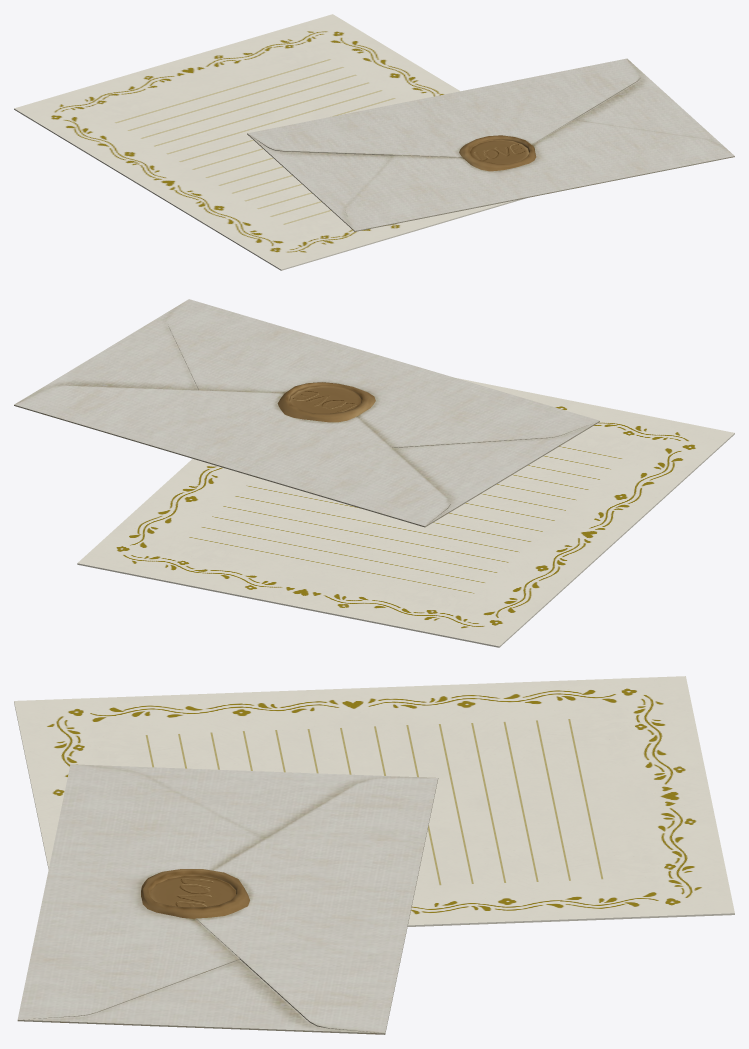
Rendered from Letter.gltf.
3 renders of one model, top to bottom at view 1: azimuth 30°, elevation 25°; view 2: azimuth 150°, elevation 25°; view 3: azimuth 270°, elevation 25°, orthographic. The views are drawn at different scales.
Parts seen in each view (by area): view 1: Letter; view 2: Letter; view 3: Letter.
Part boxes in pixels (left/top/right/bottom): Letter: left=14, top=14, right=734, bottom=270; Letter: left=14, top=299, right=734, bottom=647; Letter: left=14, top=676, right=734, bottom=1034.
Size of the model in its own units: 3.15 by 0.0486 by 2.67.
1 material, 1 textured.
